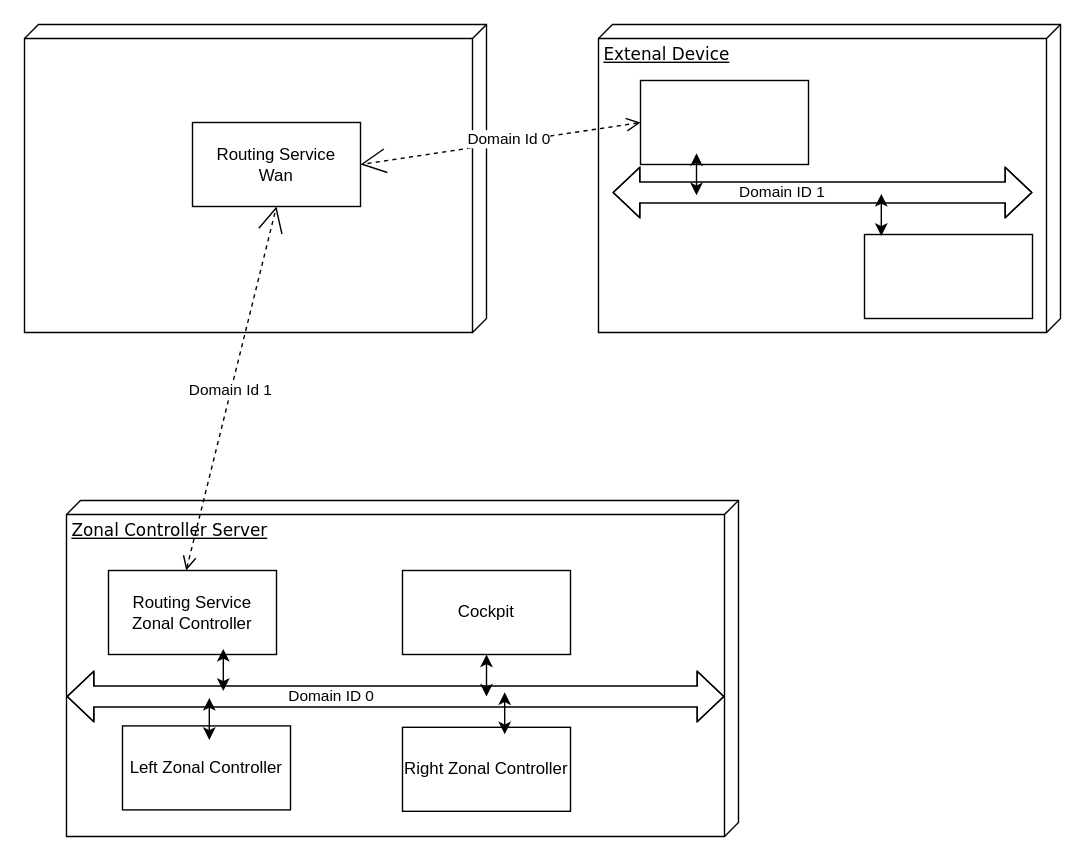
Some shapes in this 1085 by 861 pixel diagram are drawn without their labels. The shapes that lost their labels are listed below. From the top down, each one's box as (x1, y1, x2, y2) in pixels, then its label:
(639, 79, 808, 164): Routing Service User Interface
(23, 23, 486, 332): Cloud
(863, 233, 1032, 318): MobileApp
